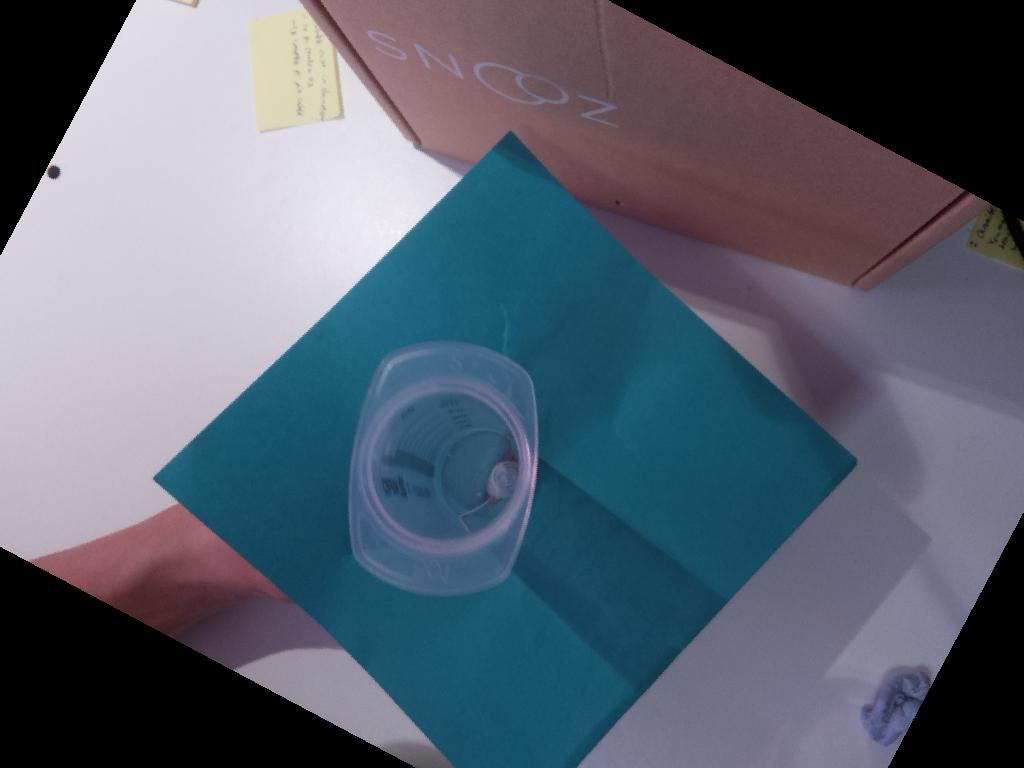clean: (346, 341, 540, 599)
